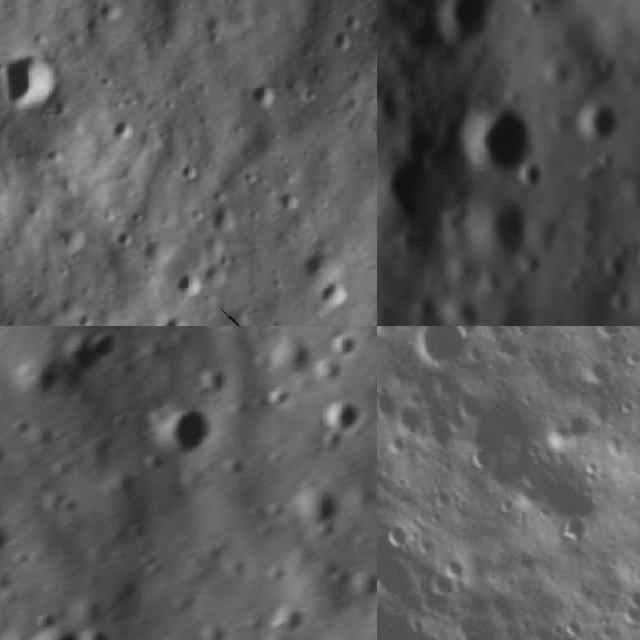crater: (377, 138, 463, 258), (454, 94, 545, 190), (464, 189, 545, 278), (148, 378, 231, 462), (415, 0, 510, 68), (560, 84, 637, 158), (0, 36, 69, 110), (280, 466, 353, 534), (306, 379, 374, 444), (57, 326, 131, 380), (409, 326, 478, 372), (21, 604, 101, 640), (194, 352, 243, 401), (262, 591, 312, 638), (240, 69, 289, 111), (100, 112, 143, 156), (422, 564, 466, 604), (322, 267, 358, 315), (292, 238, 331, 281), (169, 260, 208, 303), (553, 512, 590, 550), (324, 23, 362, 54), (359, 97, 377, 154), (388, 519, 416, 546), (626, 231, 640, 284), (359, 7, 377, 41), (157, 310, 194, 326), (629, 195, 640, 237)
